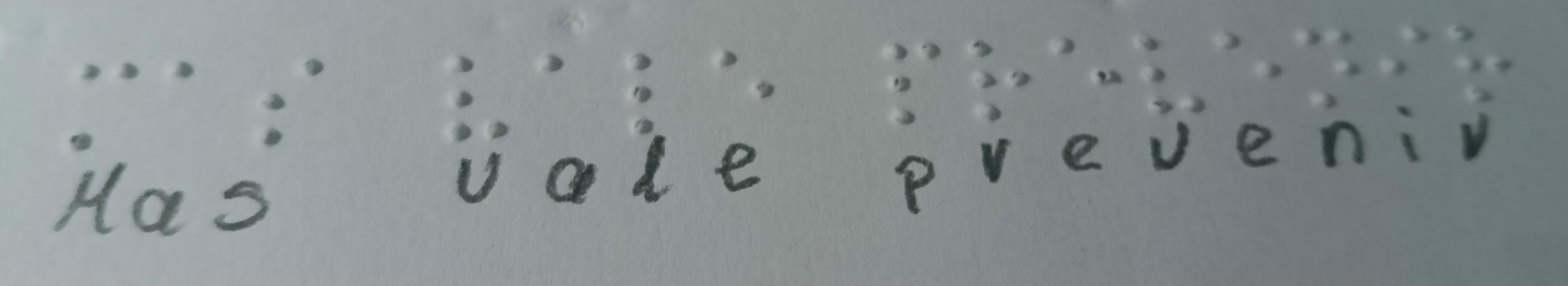a: (156, 37, 220, 169), (525, 41, 582, 136)
e: (702, 35, 786, 139), (1048, 18, 1124, 119), (1217, 14, 1287, 107)
i: (1382, 18, 1436, 92)
l: (608, 43, 676, 145)
m: (60, 43, 154, 162)
n: (1290, 22, 1370, 112)
p: (871, 33, 956, 136)
r: (1436, 18, 1528, 115), (961, 33, 1041, 130)
s: (231, 39, 335, 172)
v: (433, 47, 523, 147), (1132, 28, 1219, 126)
